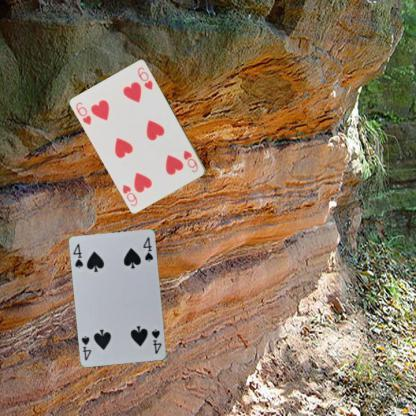4s: (149, 326, 163, 356), (70, 241, 84, 270)
6h: (73, 99, 93, 126), (180, 148, 199, 173)
